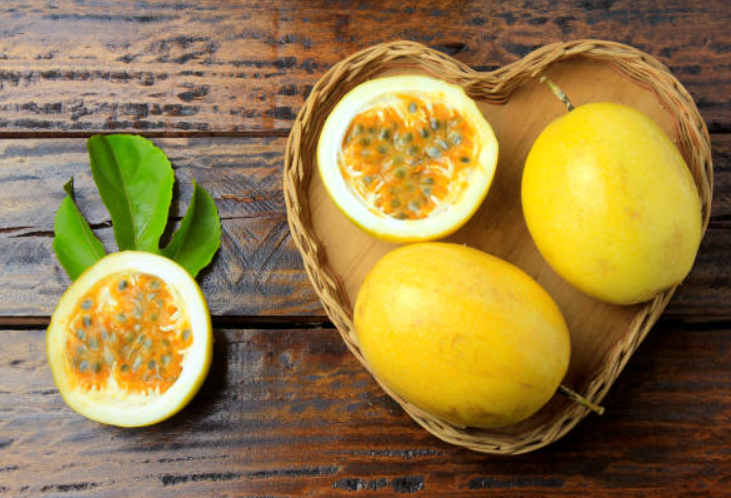maracuya: (353, 240, 570, 433), (520, 97, 705, 314)
